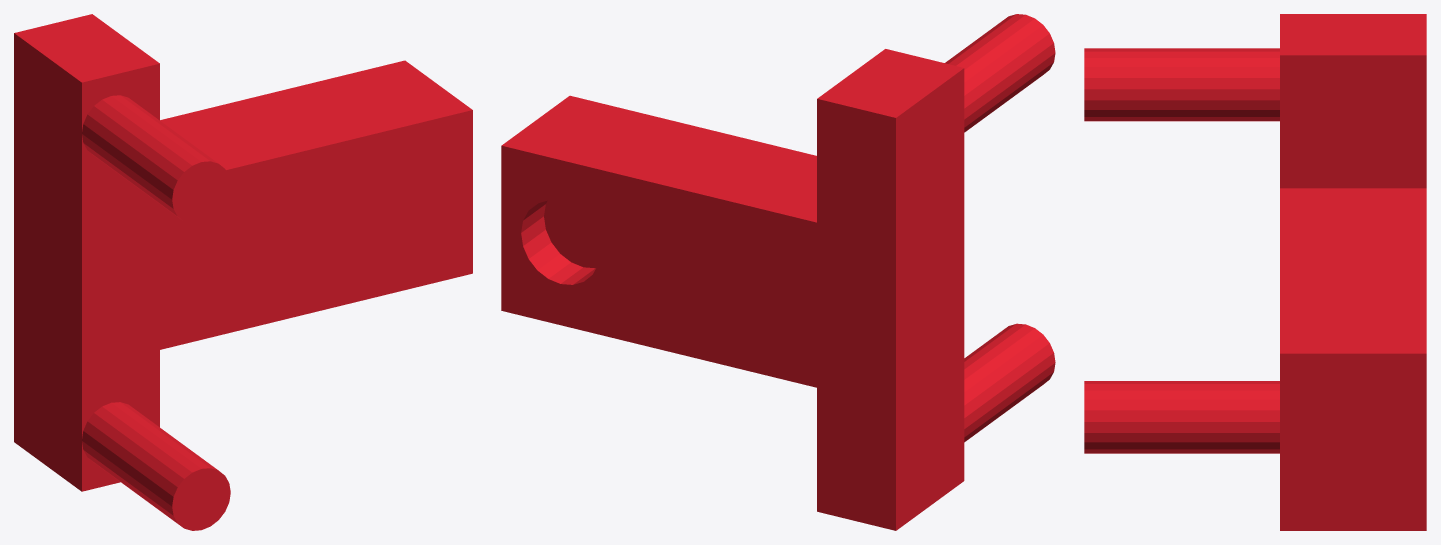
File: tinker.obj
The picture shows the model from 3 angles, left to right: view 1: azimuth 30°, elevation 25°; view 2: azimuth 150°, elevation 25°; view 3: azimuth 270°, elevation 25°; orthographic projection. The views are drawn at different scales.
Parts seen in each view (by area): view 1: obj_0; view 2: obj_0; view 3: obj_0.
Part boxes in pixels (x1,y1,x2,y2): obj_0: [14, 14, 472, 530]; obj_0: [501, 14, 1055, 530]; obj_0: [1084, 14, 1426, 530].
Size of the model in its own units: 20 by 20 by 14.
